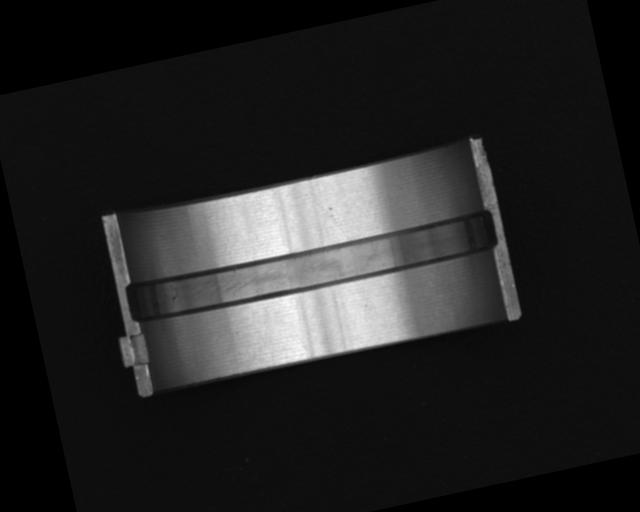gap: (121, 205, 501, 328)
